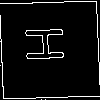H: (25, 24, 74, 63)
